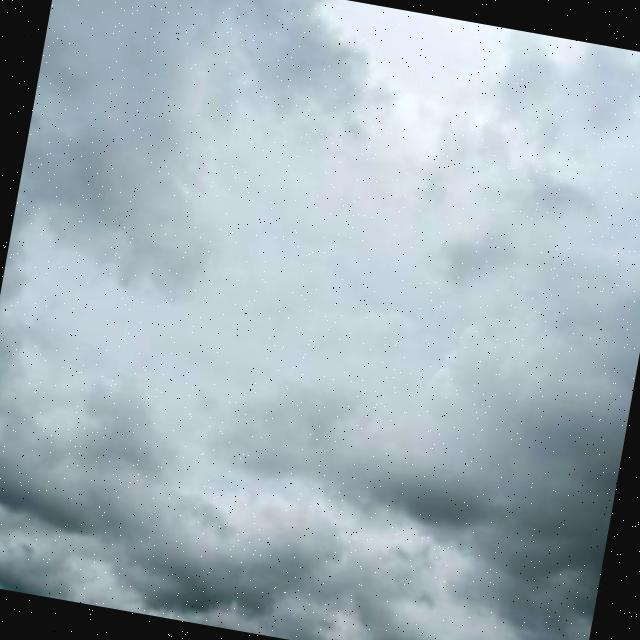Ns: (1, 46, 640, 640)
